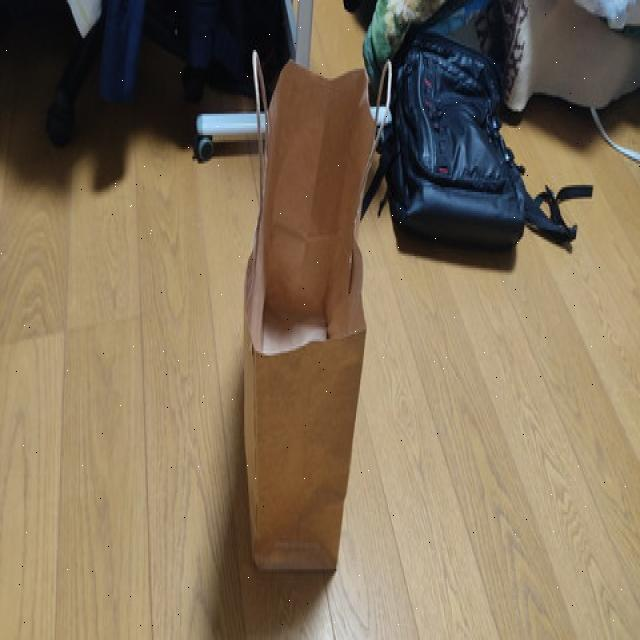paper bag: (239, 39, 394, 582)
